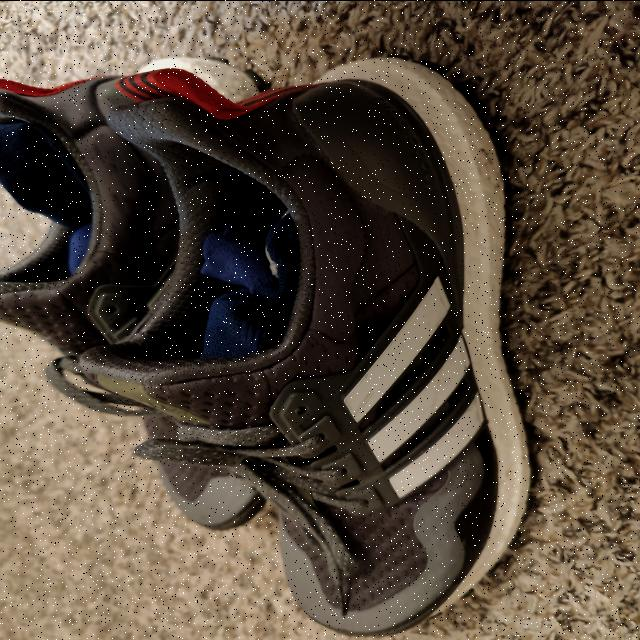black shoes: (0, 64, 530, 630)
